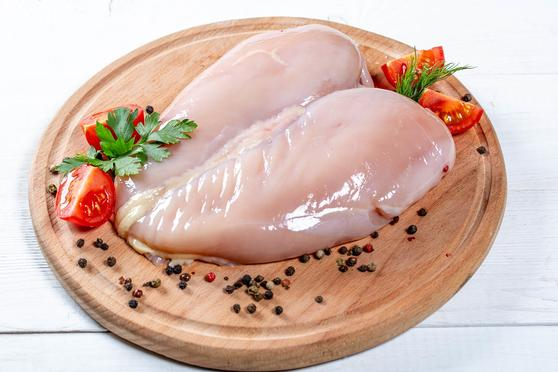chicken_fillet: (118, 24, 456, 259)
